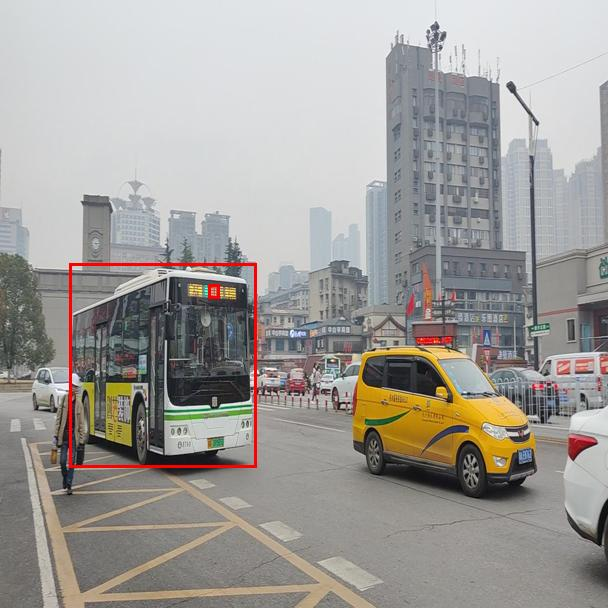bus: (69, 263, 256, 467)
screen: (208, 284, 219, 298)
